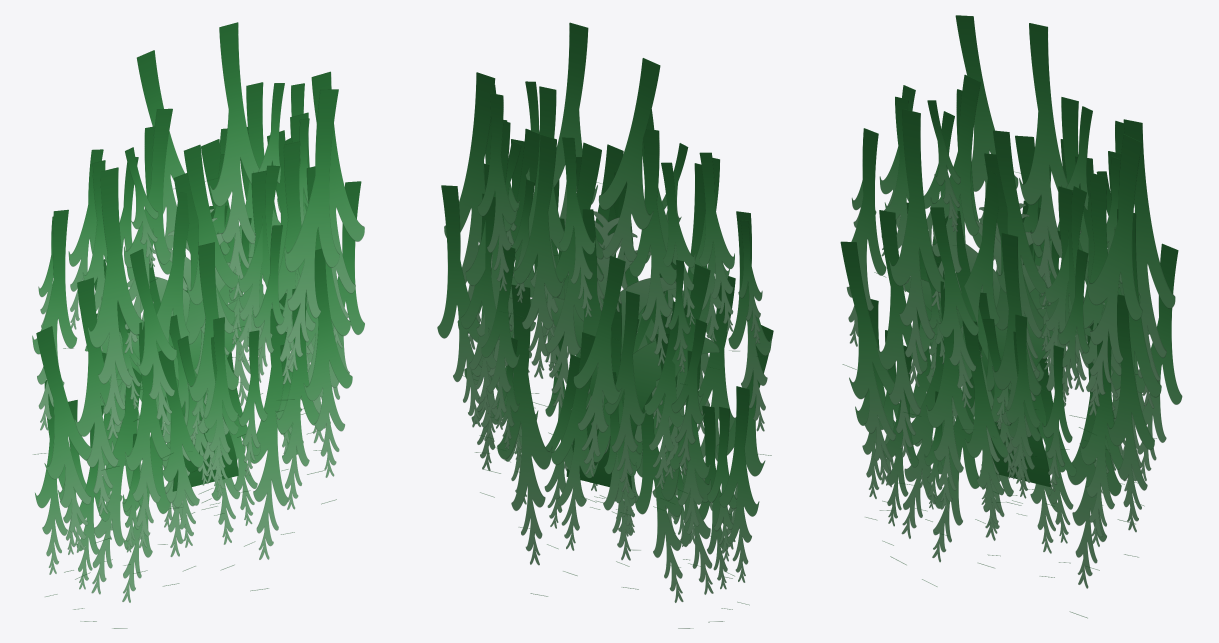
The model's file is Moss.glb.
3 views of the same model, side by side, from view 1: azimuth 30°, elevation 25°; view 2: azimuth 150°, elevation 25°; view 3: azimuth 330°, elevation 25° (orthographic).
Parts seen in each view (by area): view 1: Plane; view 2: Plane; view 3: Plane.
Boxes of the visible parts, x1,y1,x2,y2 form: Plane: (32, 22, 364, 628); Plane: (437, 22, 773, 628); Plane: (840, 15, 1182, 618).
Bounding box in the file's own units: 5.27 × 7.91 × 0.2967.
Materials: 1 (1 with a texture image).
